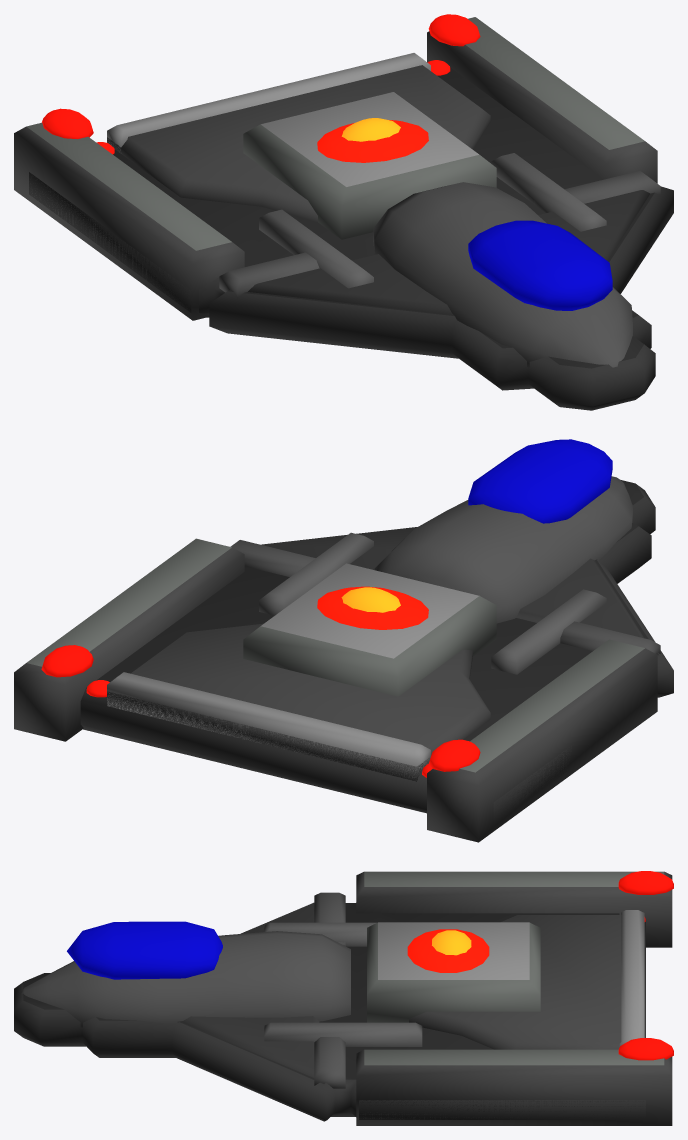
File: newshs-93-f2.glb
The picture shows the model from 3 angles, top to bottom: view 1: azimuth 30°, elevation 25°; view 2: azimuth 150°, elevation 25°; view 3: azimuth 270°, elevation 25°; orthographic projection. The views are drawn at different scales.
Parts seen in each view (by area): view 1: newshs-93-f2; view 2: newshs-93-f2; view 3: newshs-93-f2.
Boxes of the visible parts, x1,y1,x2,y2 form: newshs-93-f2: [14, 14, 673, 410]; newshs-93-f2: [14, 439, 673, 842]; newshs-93-f2: [14, 871, 673, 1125].
Size of the model in its own units: 1.5 by 0.3654 by 2.09.
